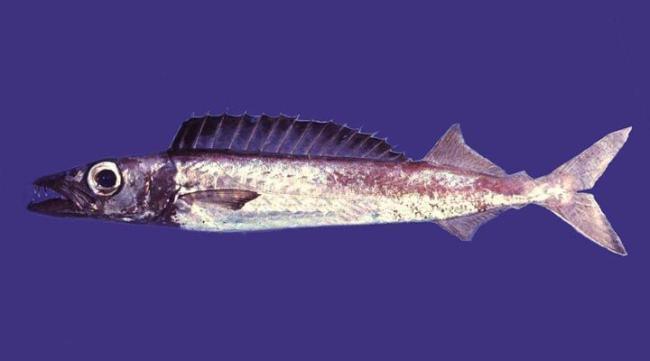fish: (27, 107, 633, 256)
